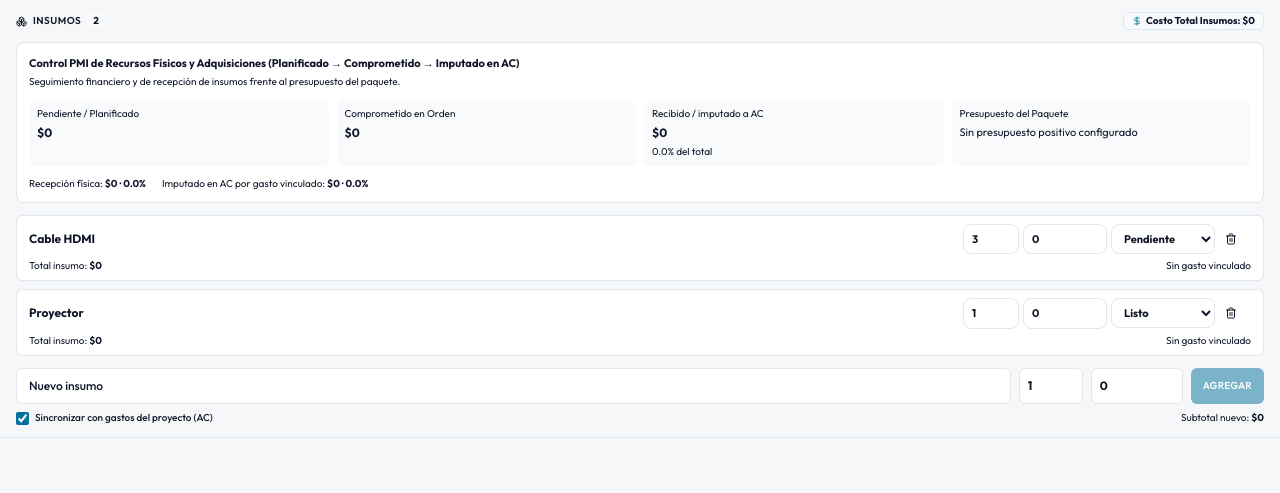
Test: TaskSupplySection › rolls back an optimistic edit and announces the failure when the PATCH is rejected
Replace the text in the field named "Nombre del insumo Cable HDMI" with "Cable USB-C" at (494, 239), box x1=29 y1=230 x2=959 y2=248
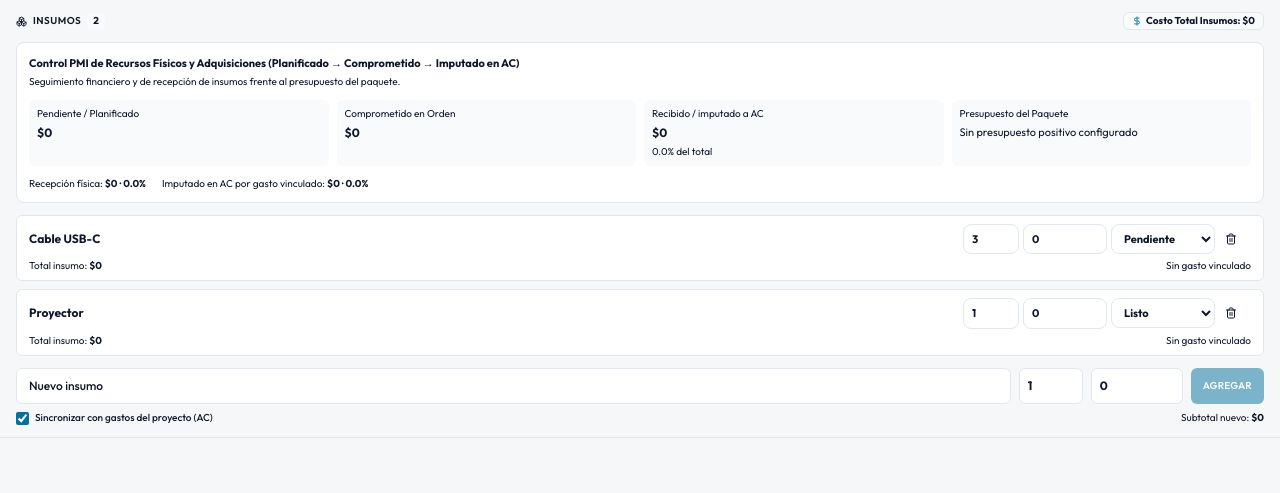
Leave the field named "Nombre del insumo Cable HDMI", box x1=29 y1=230 x2=959 y2=248
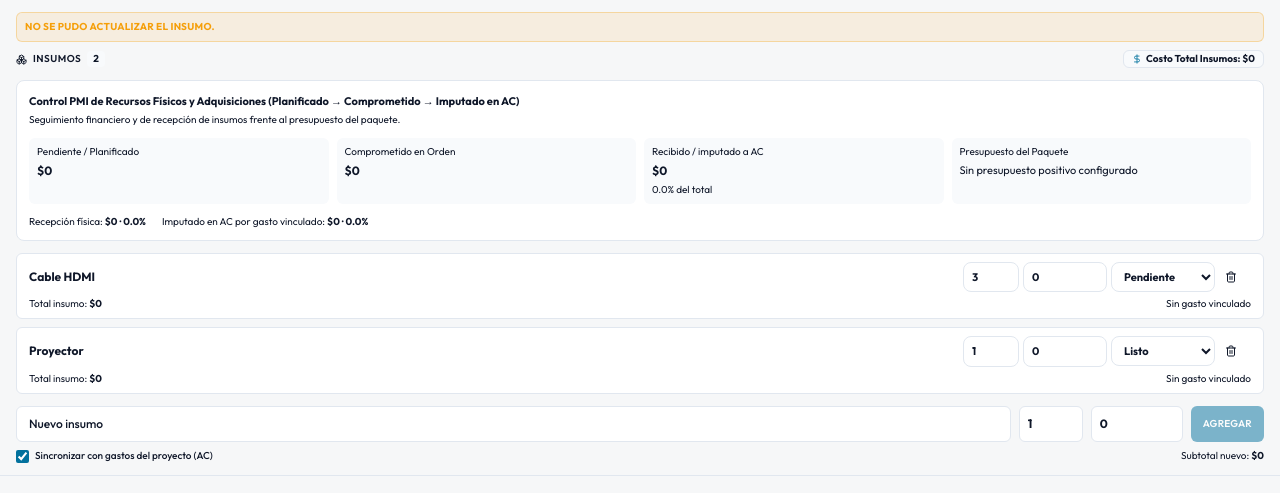
Expected: the message reads "No se pudo actualizar el insumo.", x1=25 y1=20 x2=215 y2=33
Expected: the field named "Nombre del insumo Cable HDMI" holds "Cable HDMI", x1=29 y1=268 x2=959 y2=286
